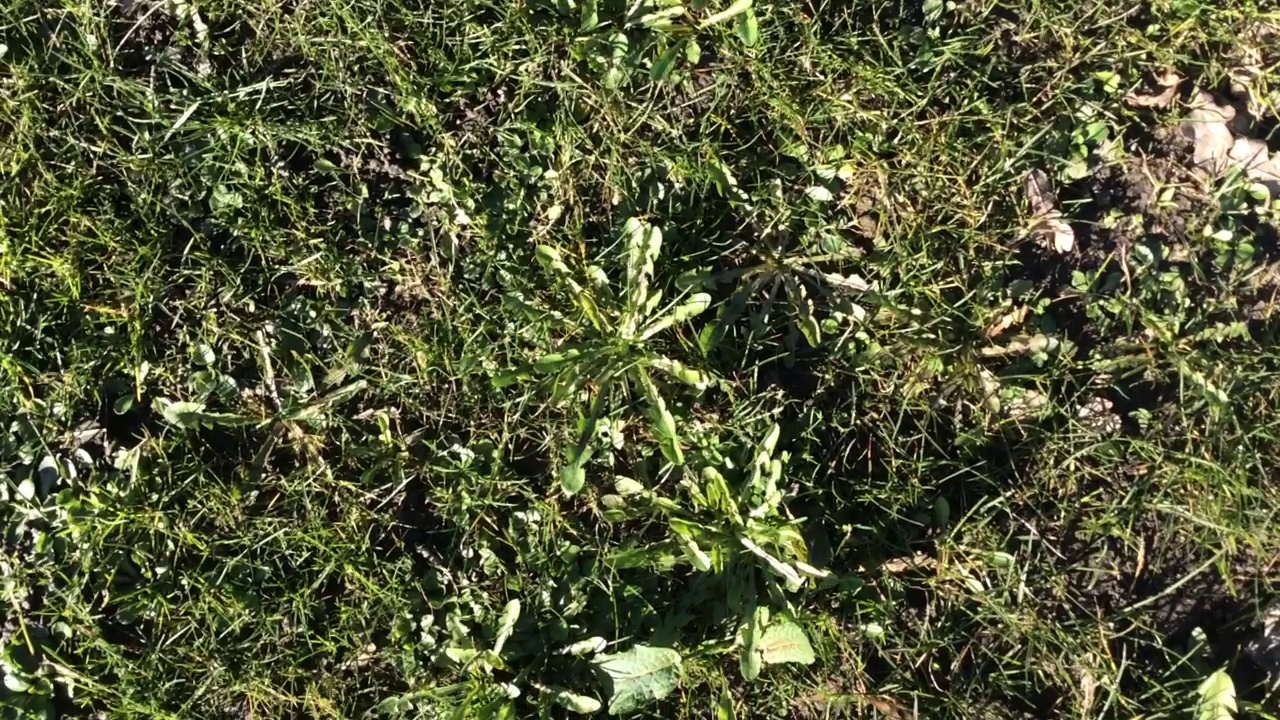rumex: (555, 648, 686, 720), (742, 622, 816, 665)
